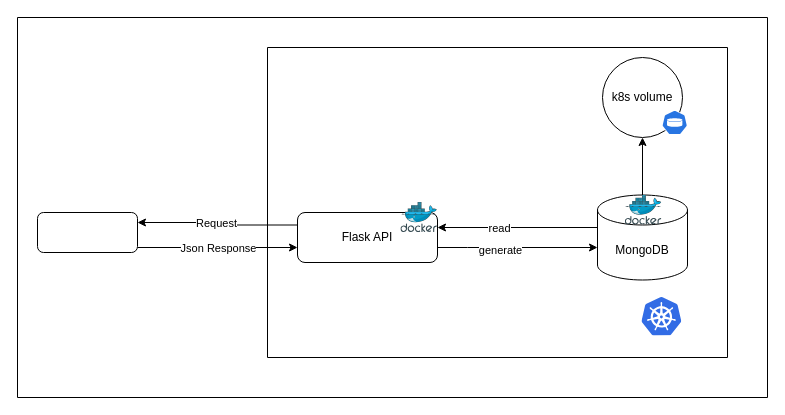
The diagram is 785 pixels wide and 415 high, and some of its shapes have lost their labels. The centre of each missing label's shape, as x and y in pixels:
"External APIs" goes at [87,232].
"Kubernetes Local Env" goes at [661,316].
